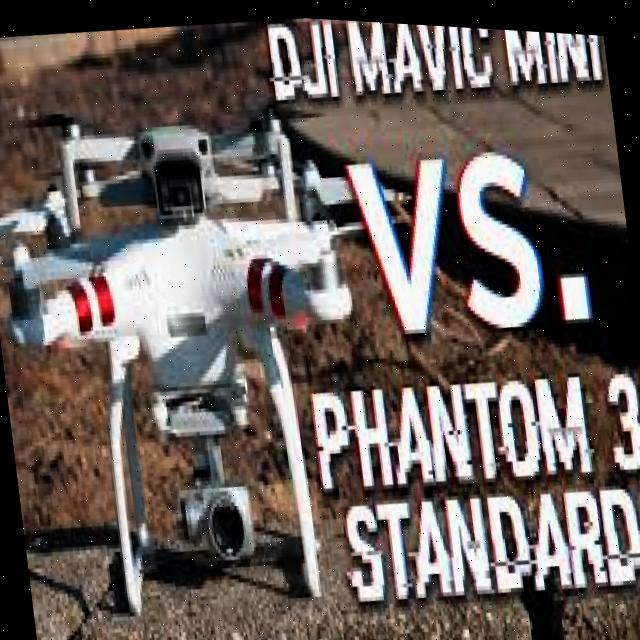drone: (0, 156, 411, 635), (52, 84, 316, 251)
